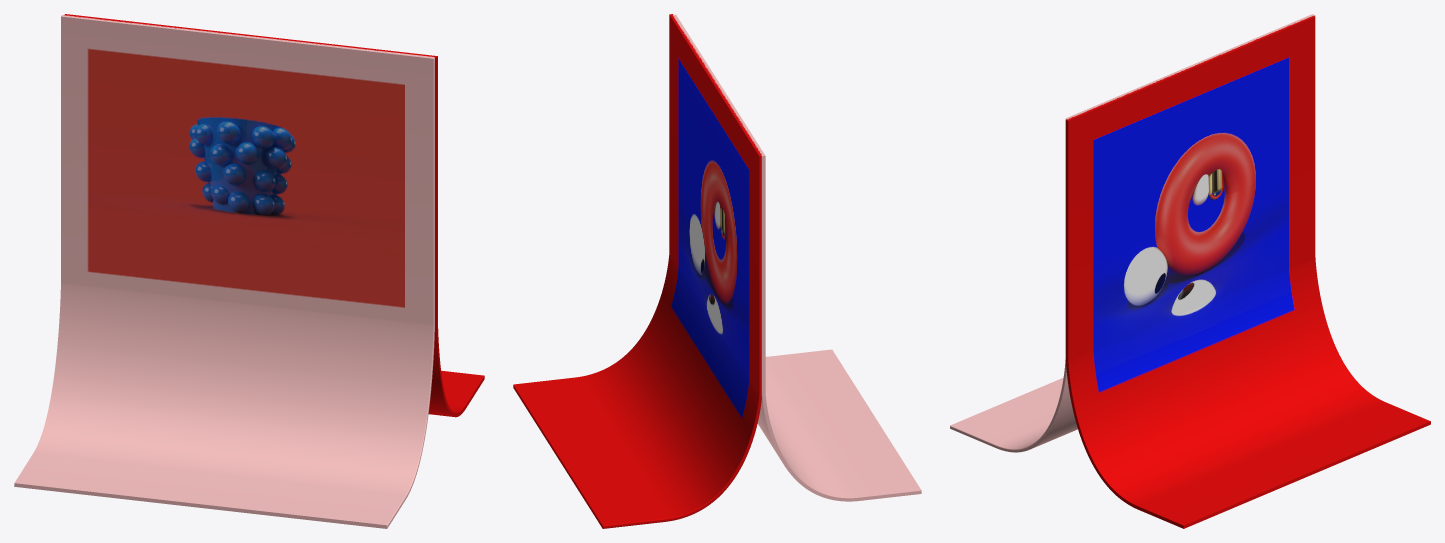
Rendered from paneaux2.glb.
3 renders of one model, left to right at view 1: azimuth 30°, elevation 25°; view 2: azimuth 150°, elevation 25°; view 3: azimuth 270°, elevation 25°, orthographic. The views are drawn at different scales.
Parts seen in each view (by area): view 1: model 11, model 10; view 2: model 10, model 11; view 3: model 10, model 11.
Boxes of the visible parts, box(x1,y1,x2,y2) form: model 11: box(14, 15, 434, 528); model 10: box(64, 14, 484, 417); model 10: box(513, 14, 761, 528); model 11: box(673, 14, 921, 501); model 10: box(1065, 16, 1430, 528); model 11: box(950, 14, 1315, 452).
Bounding box in the file's own units: 5.58 × 4.57 × 5.54.
2 materials, 2 textured.
